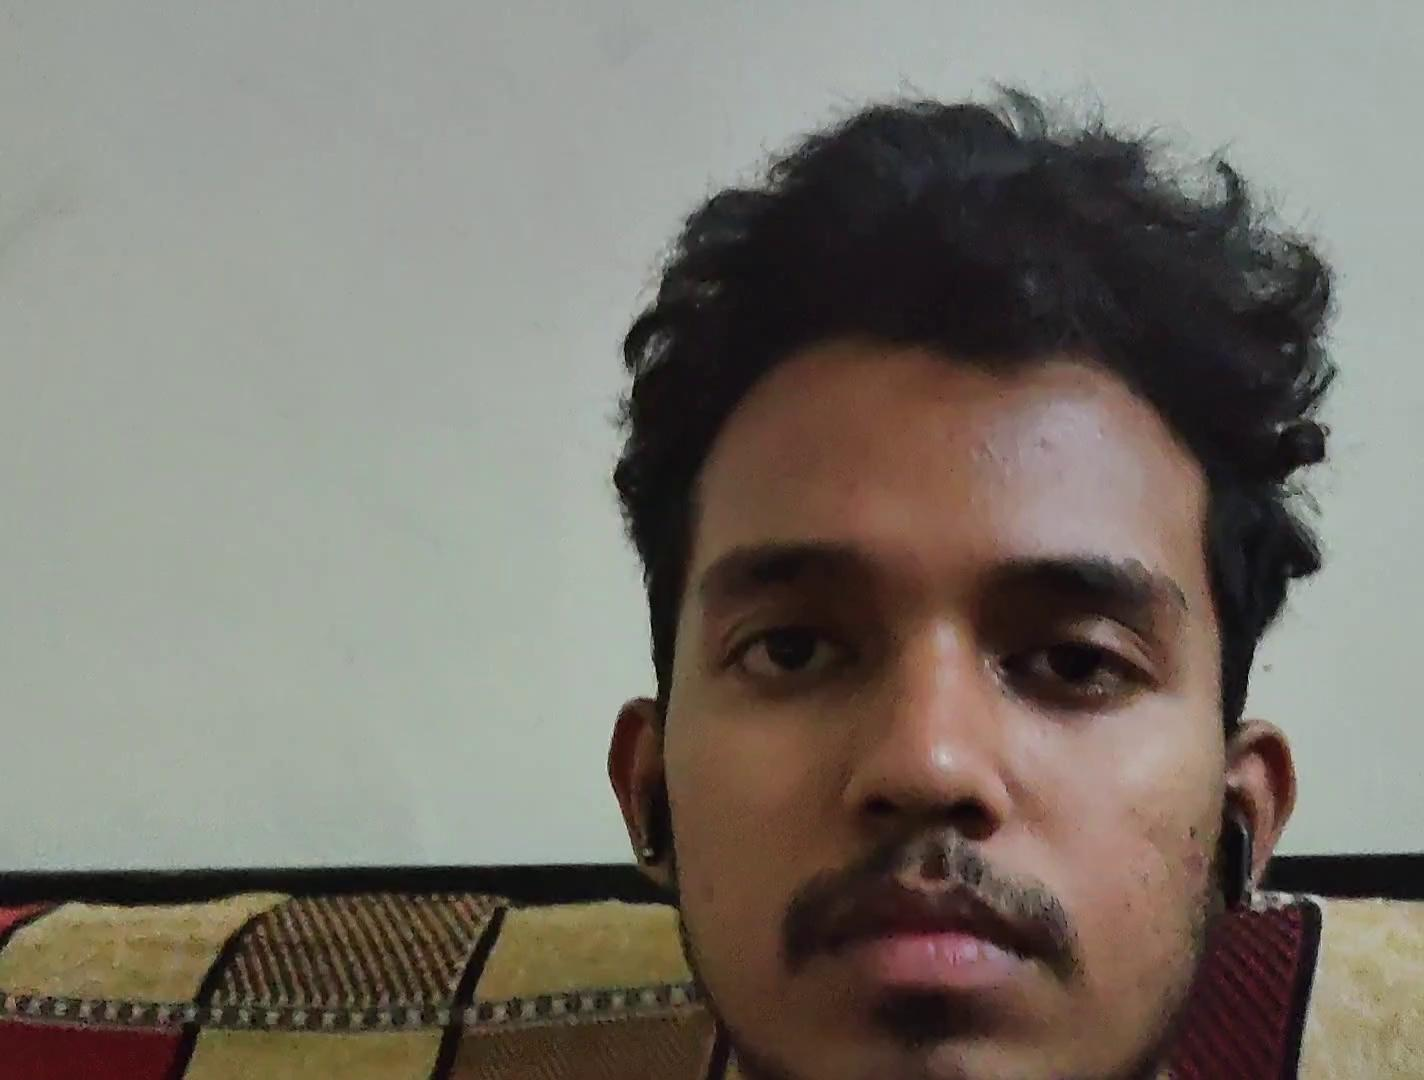face: (660, 345, 1230, 1078)
